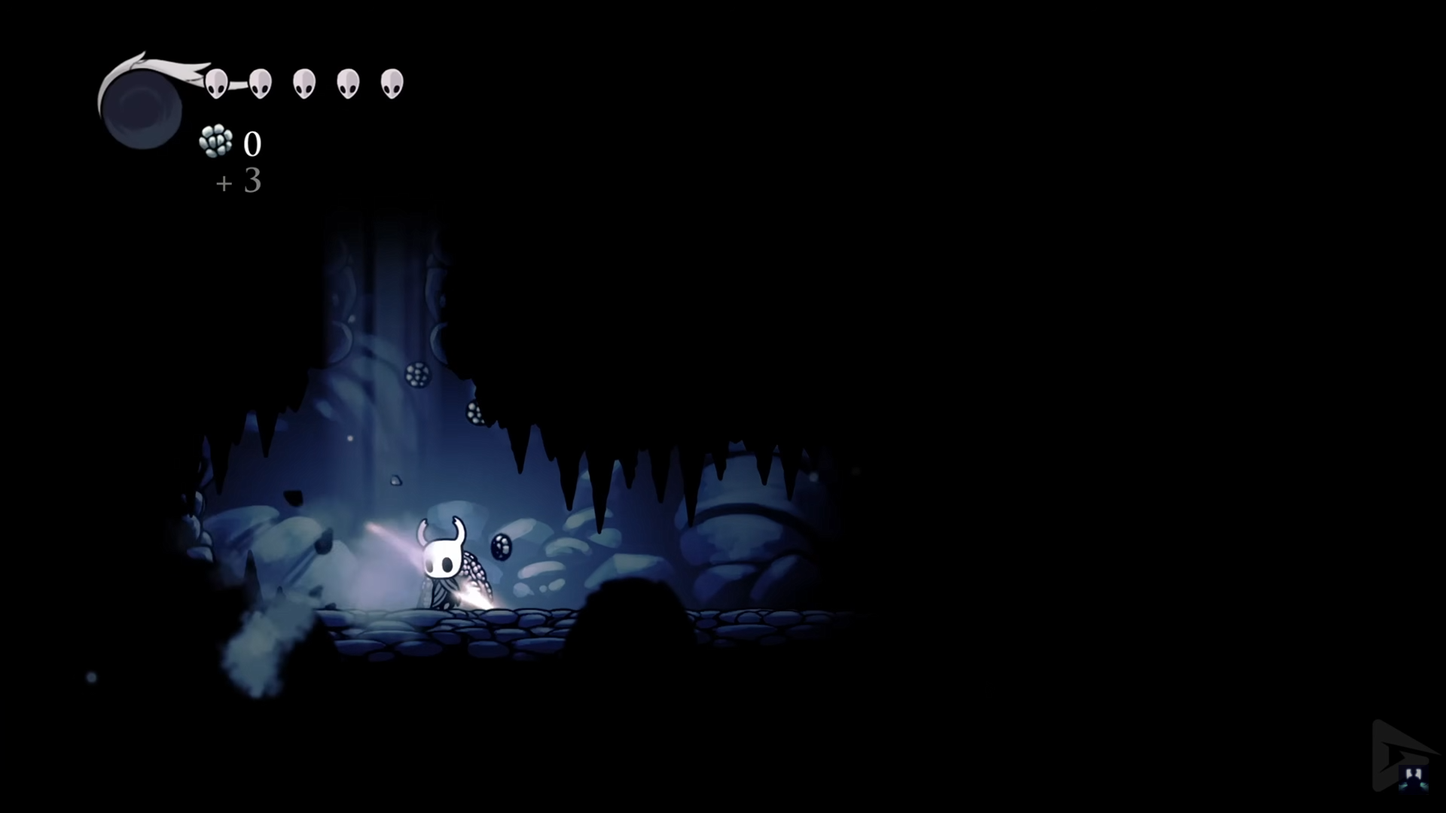HK: (411, 516, 477, 614)
